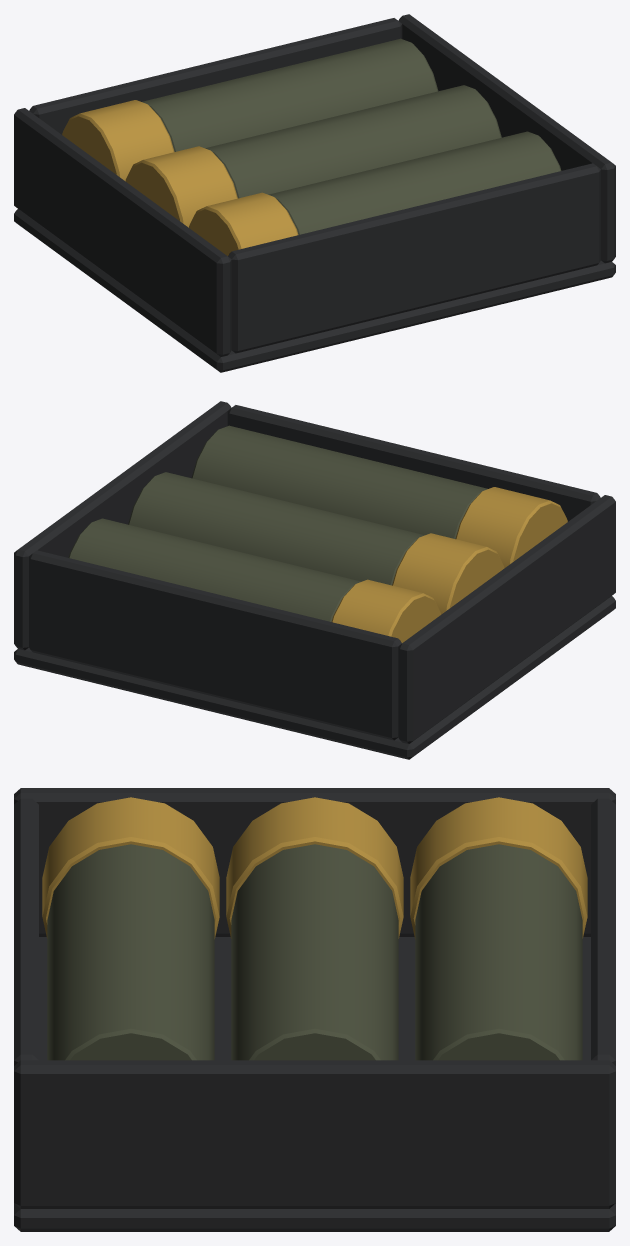
The model's file is mod_shotgun_slug.glb.
3 renders of one model, top to bottom at view 1: azimuth 30°, elevation 25°; view 2: azimuth 150°, elevation 25°; view 3: azimuth 270°, elevation 25°, orthographic. The views are drawn at different scales.
Parts seen in each view (by area): view 1: AmmoCaddy, AmmoShell2, AmmoShell1, AmmoShell0; view 2: AmmoCaddy, AmmoShell0, AmmoShell1, AmmoShell2; view 3: AmmoCaddy, AmmoShell0, AmmoShell2, AmmoShell1.
Part boxes in pixels (<box>): AmmoCaddy: <box>14,14,615,372</box>; AmmoShell2: <box>62,38,438,181</box>; AmmoShell1: <box>125,85,501,227</box>; AmmoShell0: <box>189,131,561,255</box>; AmmoCaddy: <box>14,401,615,759</box>; AmmoShell0: <box>191,425,567,568</box>; AmmoShell1: <box>128,472,504,614</box>; AmmoShell2: <box>68,518,440,642</box>; AmmoCaddy: <box>14,788,615,1231</box>; AmmoShell0: <box>42,797,219,1060</box>; AmmoShell2: <box>410,797,587,1060</box>; AmmoShell1: <box>226,797,403,1060</box>.
Bounding box in the file's own units: 0.08 × 0.0241 × 0.072.
